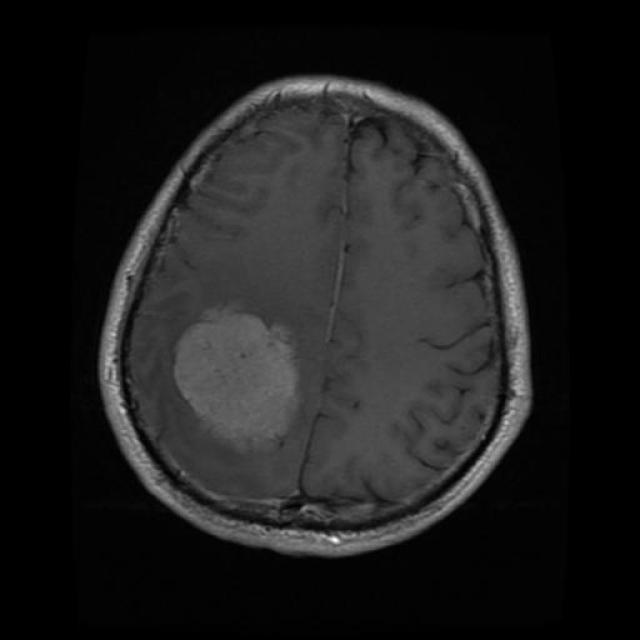Tumor: (172, 305, 308, 455)
